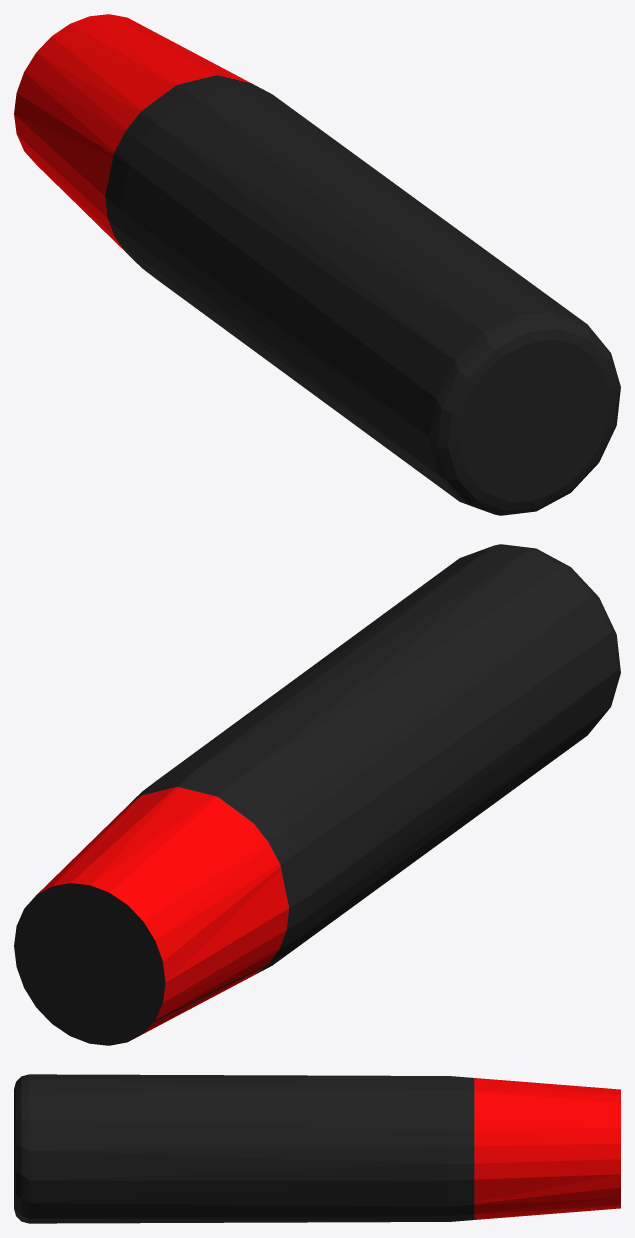
File: crank_handle.obj
3 views of the same model, one above another, from view 1: azimuth 30°, elevation 25°; view 2: azimuth 150°, elevation 25°; view 3: azimuth 270°, elevation 25° (orthographic). The views are drawn at different scales.
Size of the model in its own units: 0.016 by 0.016 by 0.0651.
Materials: 1 (1 with a texture image).
